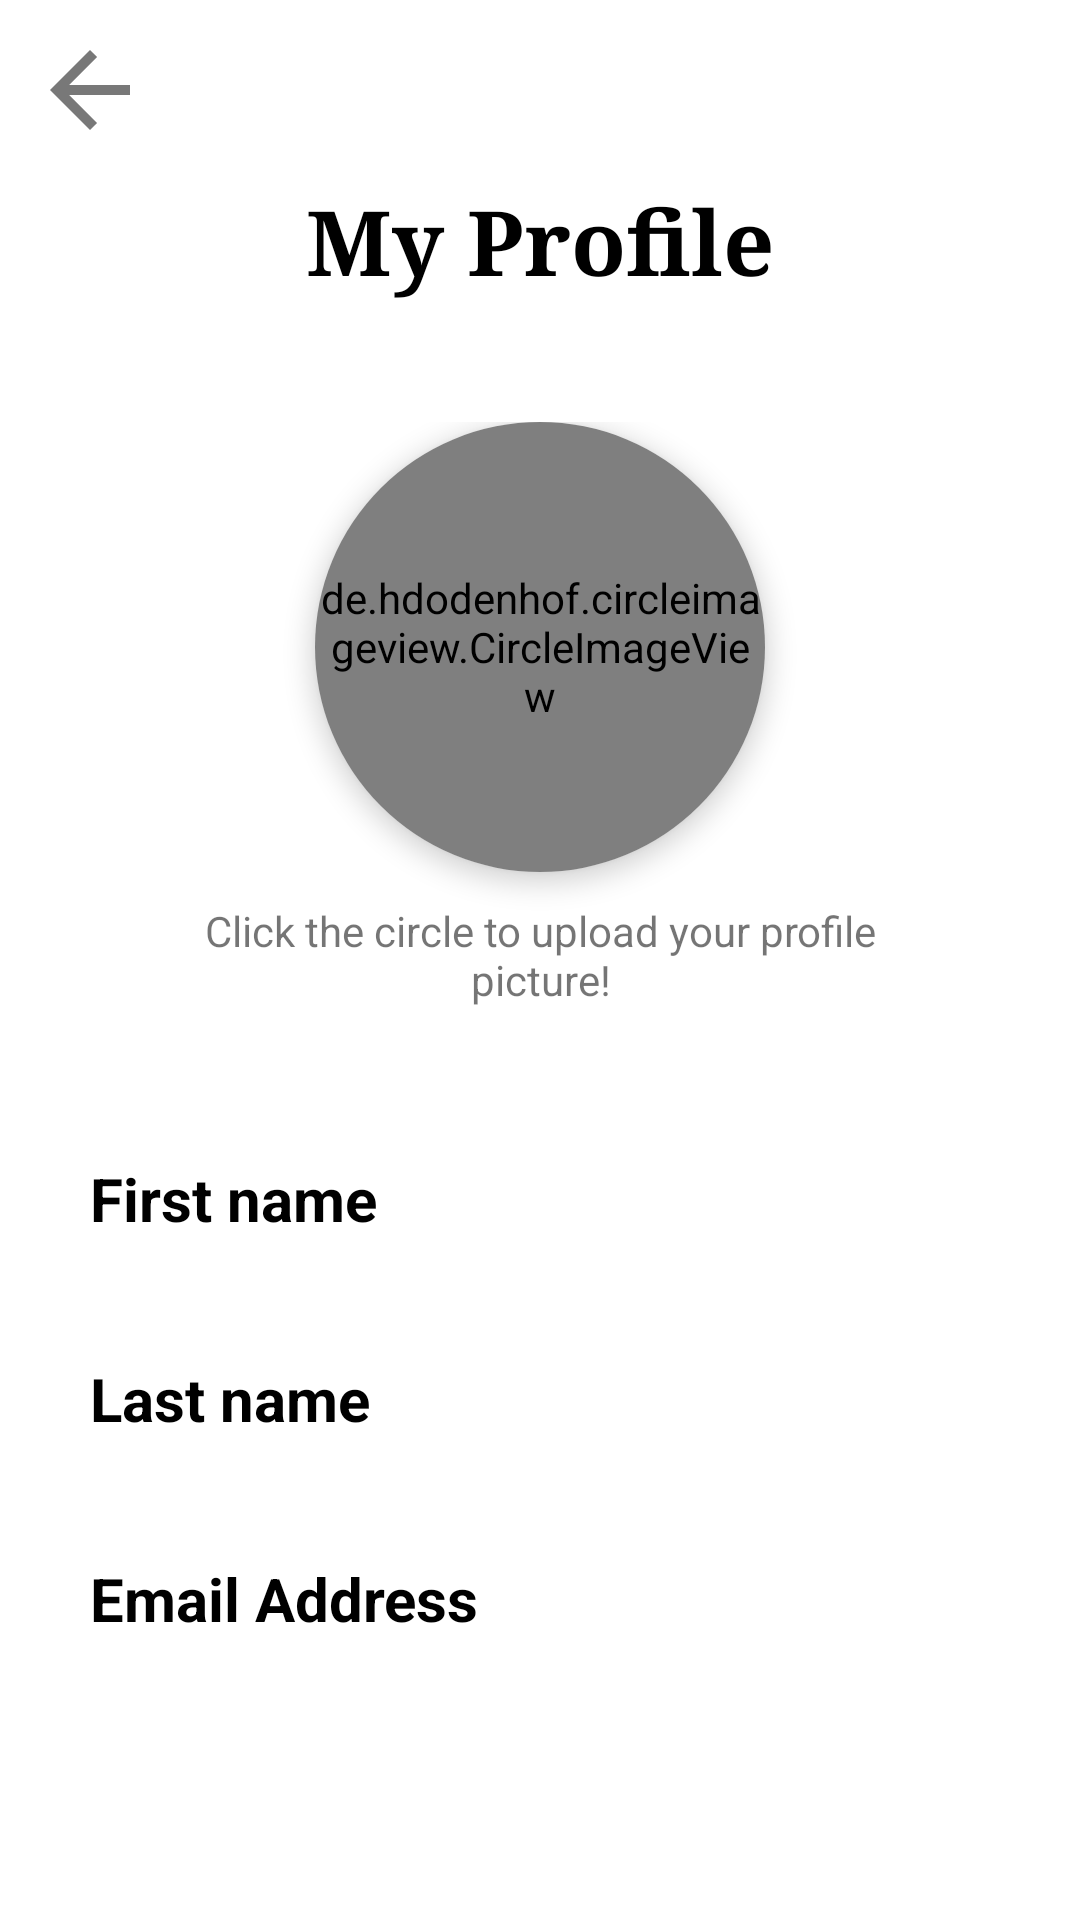

Icons on this 1080w x 1920h Android screen, each with the point to tap as [x,y]:
arrow back: [90,90]
